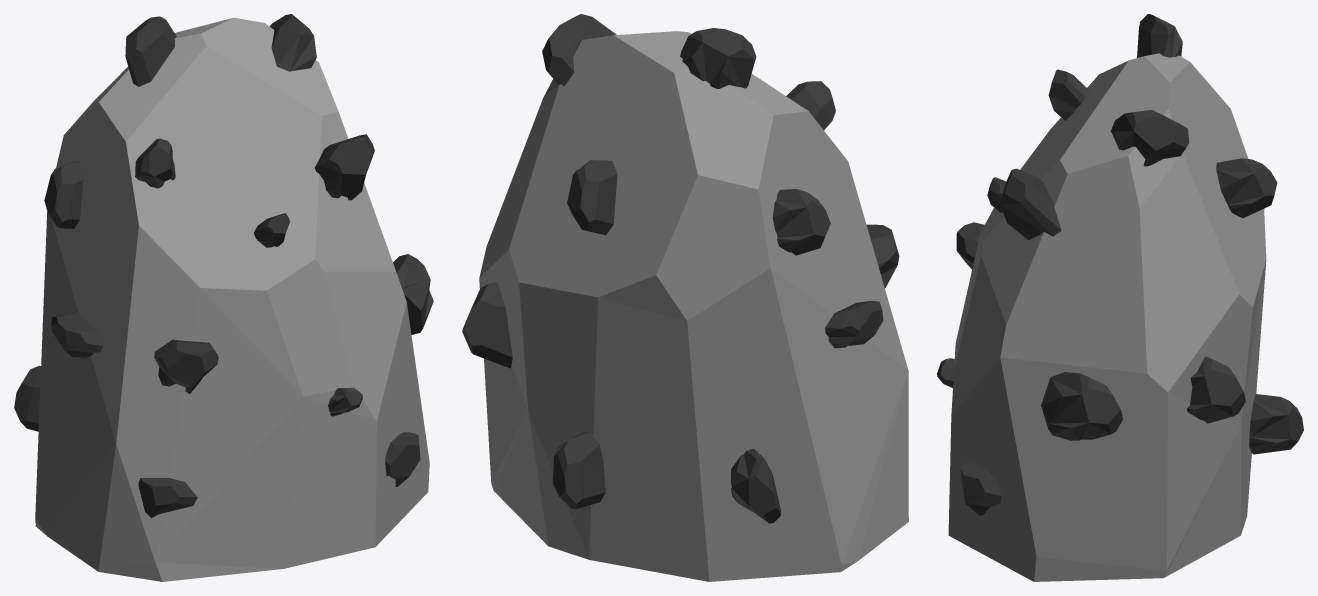
File: Scrap.obj
3 views of the same model, side by side, from view 1: azimuth 30°, elevation 25°; view 2: azimuth 150°, elevation 25°; view 3: azimuth 270°, elevation 25° (orthographic). The views are drawn at different scales.
Visible parts, largest first — view 1: defaultMaterial_-_copy.001; view 2: defaultMaterial_-_copy.001; view 3: defaultMaterial_-_copy.001.
Part boxes in pixels (x1,y1,x2,y2): defaultMaterial_-_copy.001: (14, 14, 433, 581); defaultMaterial_-_copy.001: (462, 14, 908, 581); defaultMaterial_-_copy.001: (937, 14, 1303, 581).
Bounding box in the file's own units: 1.94 × 2.45 × 1.76.
Materials: 1 (1 with a texture image).
